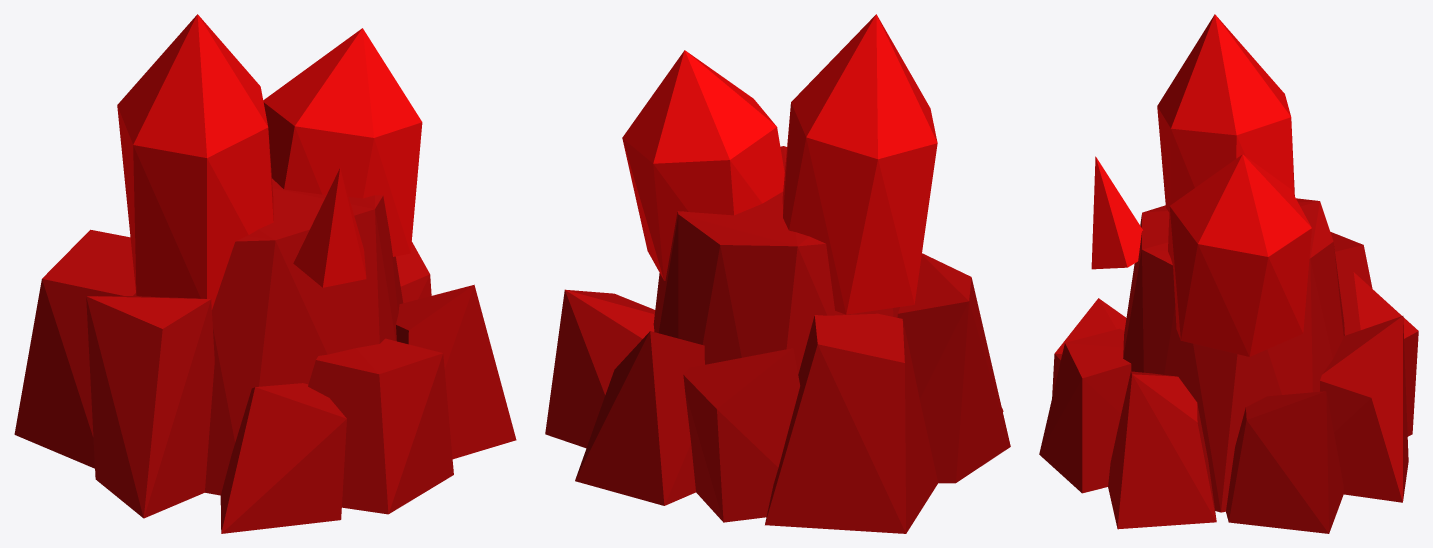
File: SM_HealChunk_01.fbx
3 views of the same model, side by side, from view 1: azimuth 30°, elevation 25°; view 2: azimuth 150°, elevation 25°; view 3: azimuth 270°, elevation 25° (orthographic). The views are drawn at different scales.
Visible parts, largest first — view 1: SM_HealChunk_01; view 2: SM_HealChunk_01; view 3: SM_HealChunk_01.
Boxes of the visible parts, left/top/right/bottom form: SM_HealChunk_01: left=14, top=14, right=516, bottom=533; SM_HealChunk_01: left=545, top=14, right=1010, bottom=533; SM_HealChunk_01: left=1039, top=14, right=1418, bottom=533.
Bounding box in the file's own units: 26.61 × 30 × 25.76.
